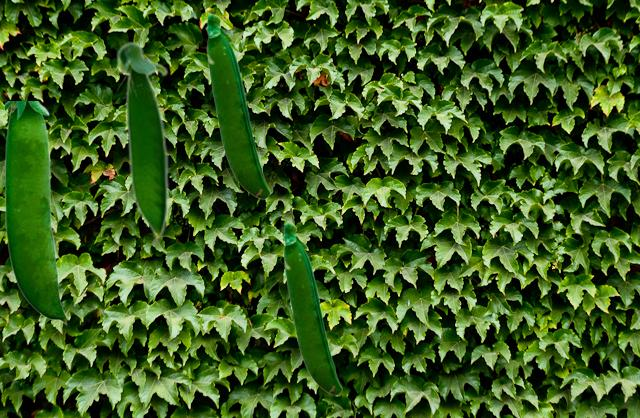pea: (5, 101, 66, 324), (205, 12, 269, 198), (115, 40, 168, 242), (282, 221, 341, 394)
